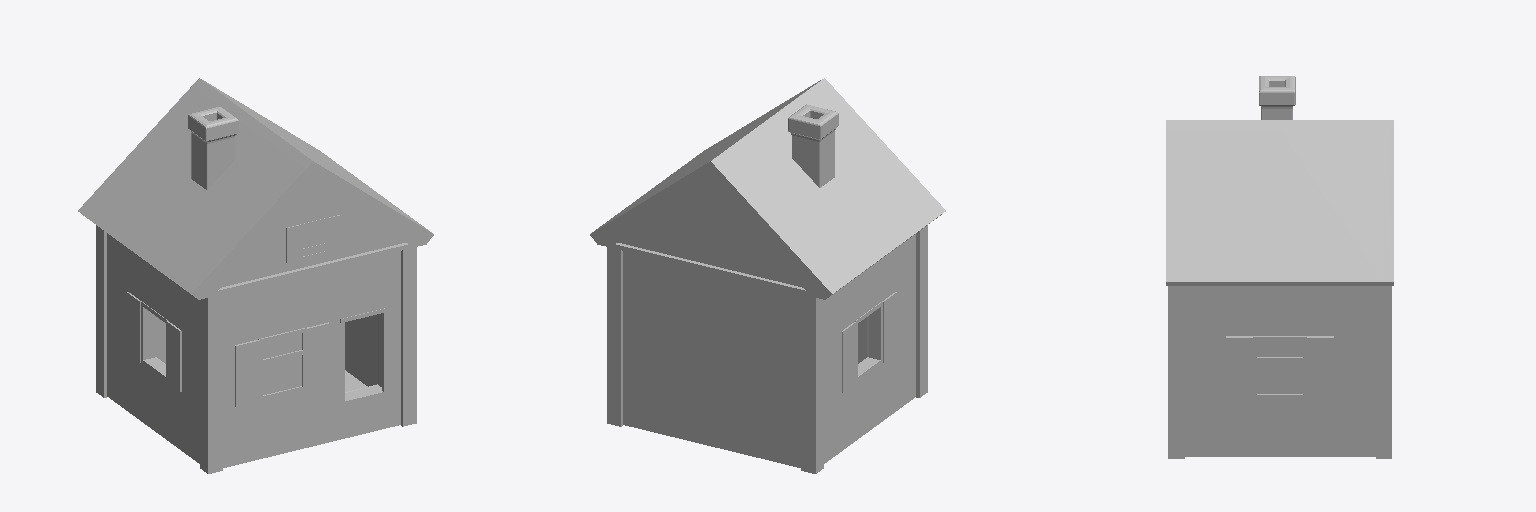
The model's file is 20960_Front_Gable_House_v1_NEW.obj.
The picture shows the model from 3 angles: view 1: azimuth 30°, elevation 25°; view 2: azimuth 150°, elevation 25°; view 3: azimuth 270°, elevation 25°; orthographic projection.
Parts seen in each view (by area): view 1: polySurface1; view 2: polySurface1; view 3: polySurface1.
Boxes of the visible parts, box(x1,y1,x2,y2) form: polySurface1: box(78, 78, 433, 473); polySurface1: box(590, 78, 945, 473); polySurface1: box(1166, 76, 1393, 458).
Bounding box in the file's own units: 7.36 × 8.8 × 5.98.